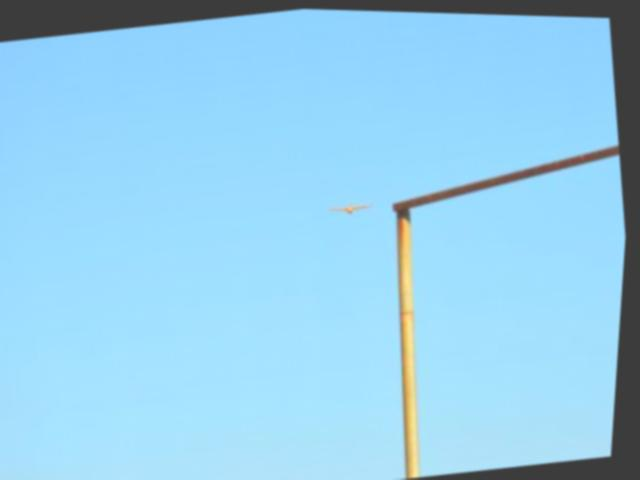iha: (330, 196, 378, 215)
